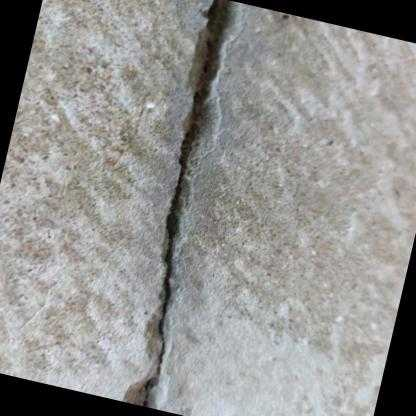crack: (121, 0, 246, 410)
